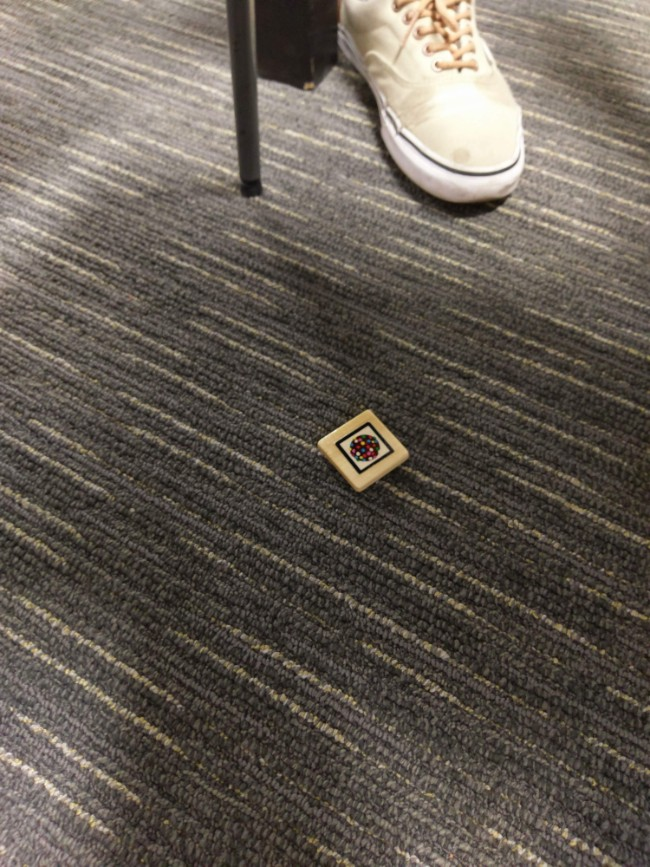cookie: (336, 423, 396, 473)
